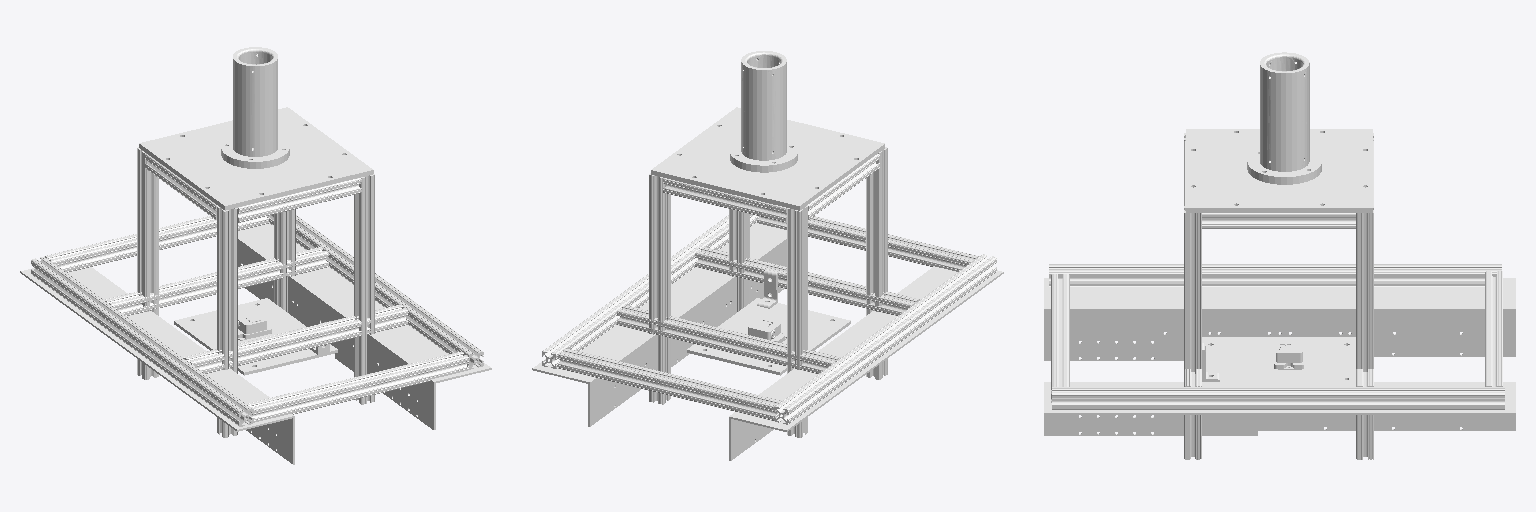
robot.urdf — frame_8020:
<robot
  name="frame_8020">
  <link
    name="base_link">
    <inertial>
      <origin
        xyz="0.13868 -0.31707 0.28419"
        rpy="0 0 0" />
      <mass
        value="4.2785" />
      <inertia
        ixx="0.11494"
        ixy="-6.8249E-05"
        ixz="-0.00030429"
        iyy="0.12359"
        iyz="-0.001274"
        izz="0.071887" />
    </inertial>
    <visual>
      <origin
        xyz="0 0 0"
        rpy="0 0 0" />
      <geometry>
        <mesh
          filename="package://gvrbot/models/meshes/frame_8020.STL" />
      </geometry>
      <material
        name="">
        <color
          rgba="1 1 1 1" />
      </material>
    </visual>
    <collision>
      <origin
        xyz="0 0 0"
        rpy="0 0 0" />
      <geometry>
        <mesh
          filename="package://gvrbot/models/meshes/frame_8020.STL" />
      </geometry>
    </collision>
  </link>
</robot>

--- Render facts (derived) ---
The picture shows the robot from 3 angles, left to right: view 1: azimuth 30°, elevation 25°; view 2: azimuth 150°, elevation 25°; view 3: azimuth 270°, elevation 25°; orthographic projection.
Robot: frame_8020 — 1 links, 0 joints (none); root link base_link; default pose: all joints at 0.
Links seen in each view (by area): view 1: base_link; view 2: base_link; view 3: base_link.
Link boxes in pixels (x1=…): base_link: x1=20, y1=47, x2=491, y2=464; base_link: x1=532, y1=51, x2=1003, y2=460; base_link: x1=1044, y1=52, x2=1515, y2=459.
Size in the robot's own frame: 0.4473 by 0.6604 by 0.5528 metres.
1 mesh visuals loaded from 1 distinct referenced files (1 binary STL).